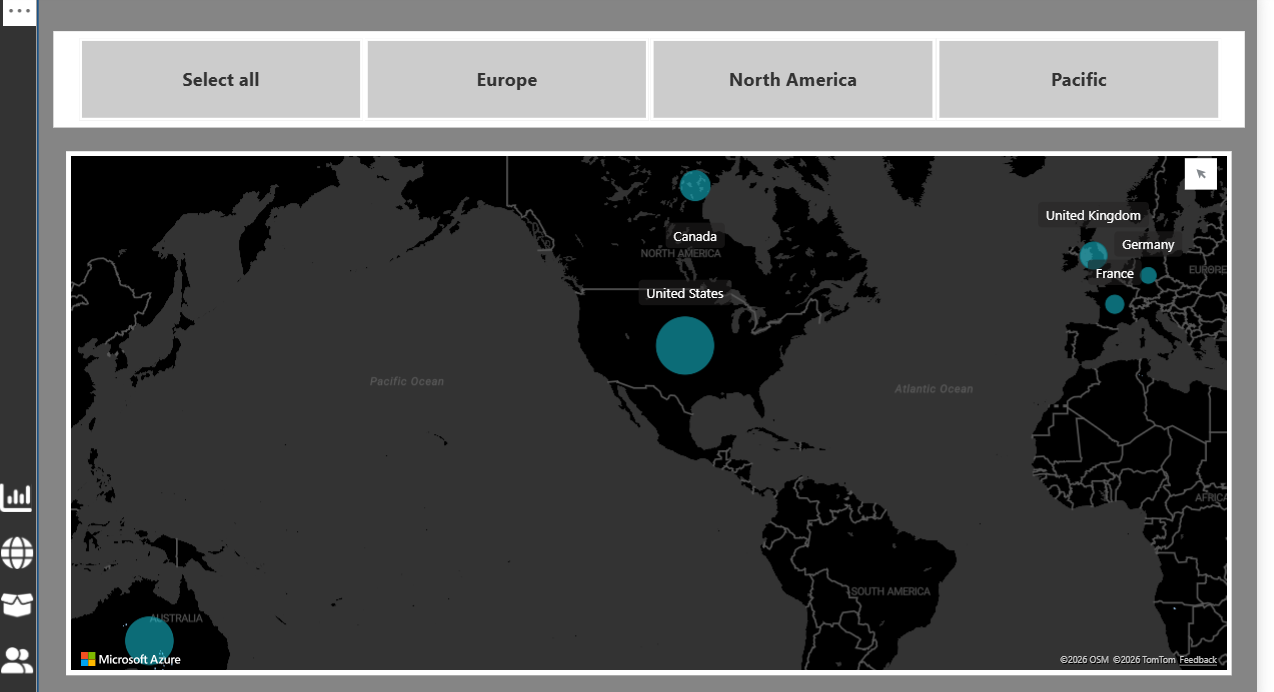

The dashboard page shown, as its layout file describes it:
{"tool":"powerbi","page":{"name":"Map","canvas":[1280,720],"ordinal":1},"visuals":[{"type":"shape","box":[0,0,45,719.8],"z":0},{"type":"actionButton","box":[0.7,491.5,59.6,40.7],"z":0,"group":"g1"},{"type":"azureMap","fields":{"Category":["Territory Lookup.Country"],"Size":["Measure Table.Total Orders"]},"box":[72.7,160,1180.8,530.8],"z":1000},{"type":"actionButton","box":[1.4,546.8,59.6,40.7],"z":1000,"group":"g1"},{"type":"slicer","fields":{"Values":["Territory Lookup.Continent"]},"box":[59.6,39.3,1206.9,97.4],"z":2000},{"type":"actionButton","box":[1.4,600.6,59.6,40.7],"z":2000,"group":"g1"},{"type":"group","id":"g1","title":"nav_button","box":[0.7,491.5,60.3,205],"z":3000},{"type":"actionButton","box":[1.4,655.8,59.6,40.7],"z":3000,"group":"g1"}]}

Visuals, with their boxes in screenshot pixels (x1, y1, x2, y2):
shape: box(0, 0, 38, 691)
actionButton: box(0, 474, 53, 514)
azureMap - Territory Lookup.Country x Measure Table.Total Orders: box(65, 148, 1228, 670)
actionButton: box(0, 528, 53, 569)
slicer - Territory Lookup.Continent: box(52, 29, 1240, 125)
actionButton: box(0, 581, 53, 622)
"nav_button" group: box(0, 474, 53, 676)
actionButton: box(0, 636, 53, 676)
